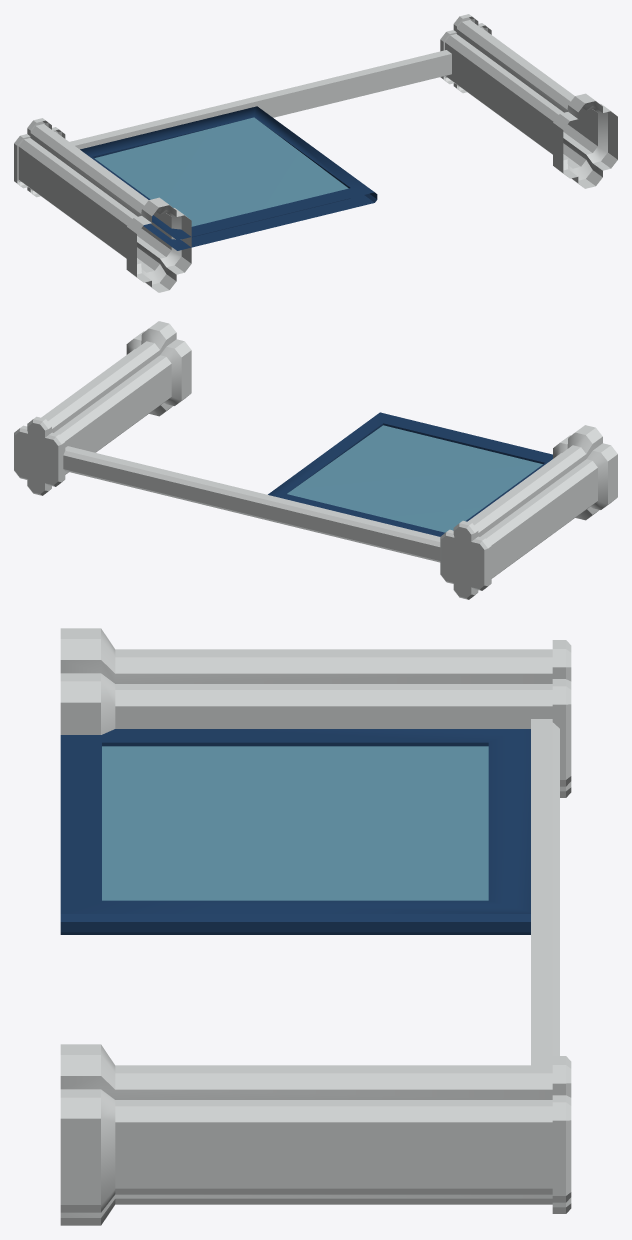
File: Main Door 01.FBX
3 views of the same model, one above another, from view 1: azimuth 30°, elevation 25°; view 2: azimuth 150°, elevation 25°; view 3: azimuth 270°, elevation 25° (orthographic). The views are drawn at different scales.
Parts seen in each view (by area): view 1: Main Door 01 Frame, Main Door 01 Glass, Main Door 01; view 2: Main Door 01 Frame, Main Door 01 Glass, Main Door 01; view 3: Main Door 01 Frame, Main Door 01 Glass, Main Door 01.
Part boxes in pixels (x1,y1,x2,y2): Main Door 01 Frame: [14, 14, 617, 292]; Main Door 01 Glass: [94, 117, 348, 226]; Main Door 01: [80, 106, 377, 250]; Main Door 01 Frame: [14, 321, 617, 599]; Main Door 01 Glass: [287, 425, 542, 532]; Main Door 01: [268, 412, 552, 536]; Main Door 01 Frame: [60, 628, 571, 1225]; Main Door 01 Glass: [102, 746, 488, 900]; Main Door 01: [60, 729, 530, 934].
Bounding box in the file's own units: 564 × 95.65 × 259.
1 material, 1 textured.
